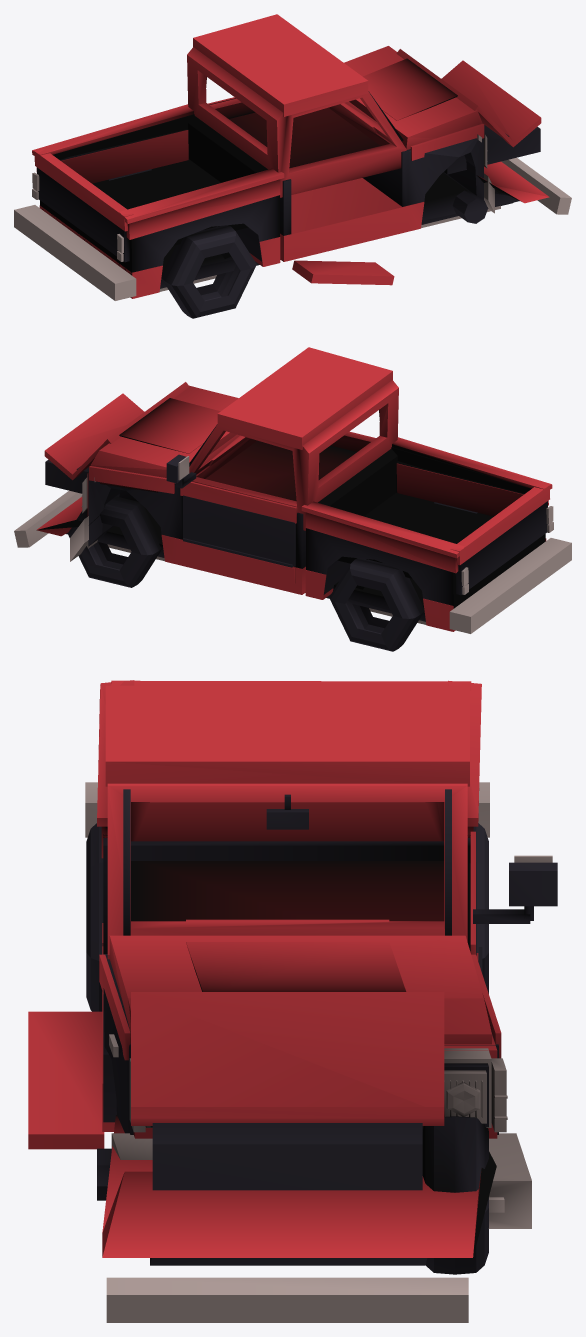
Rendered from veh.pickup-red.wrecked.lod2.glb.
The picture shows the model from 3 angles, top to bottom: view 1: azimuth 30°, elevation 25°; view 2: azimuth 150°, elevation 25°; view 3: azimuth 270°, elevation 25°; orthographic projection. The views are drawn at different scales.
Visible parts, largest first — view 1: body, wheelRL, wheelFL; view 2: body, wheelRR, wheelFR; view 3: body, wheelFR, wheelRL, wheelRR.
Boxes of the visible parts, <box> form: body: <box>14,14,571,300</box>; wheelRL: <box>161,225,256,318</box>; wheelFL: <box>452,190,487,223</box>; body: <box>14,347,571,633</box>; wheelRR: <box>329,558,424,651</box>; wheelFR: <box>67,496,161,587</box>; body: <box>28,680,557,1322</box>; wheelFR: <box>422,1116,488,1274</box>; wheelRL: <box>86,823,103,1011</box>; wheelRR: <box>473,823,488,993</box>.
Bounding box in the file's own units: 5.04 × 2.02 × 2.5.
